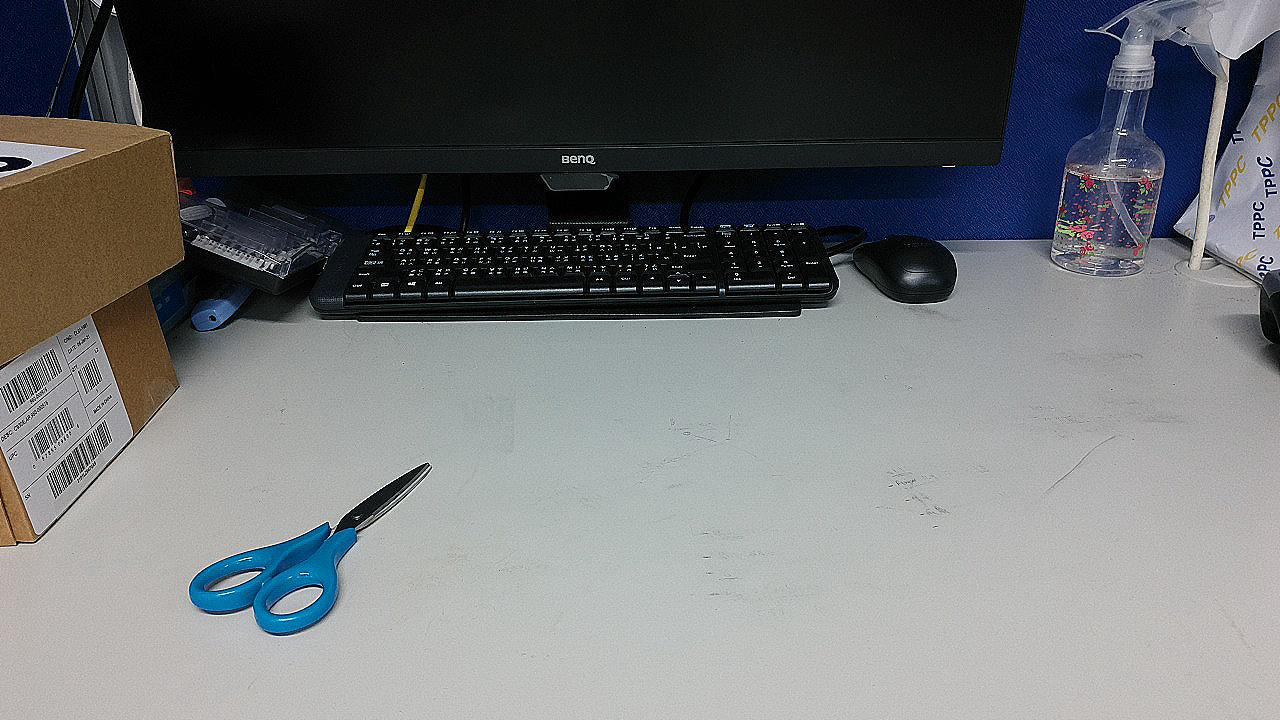long: (353, 399, 783, 499)
